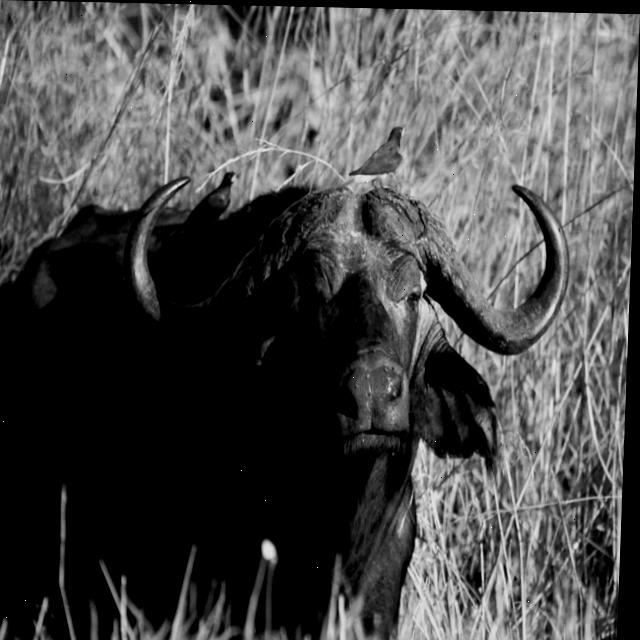Buffalo: (0, 169, 573, 640)
